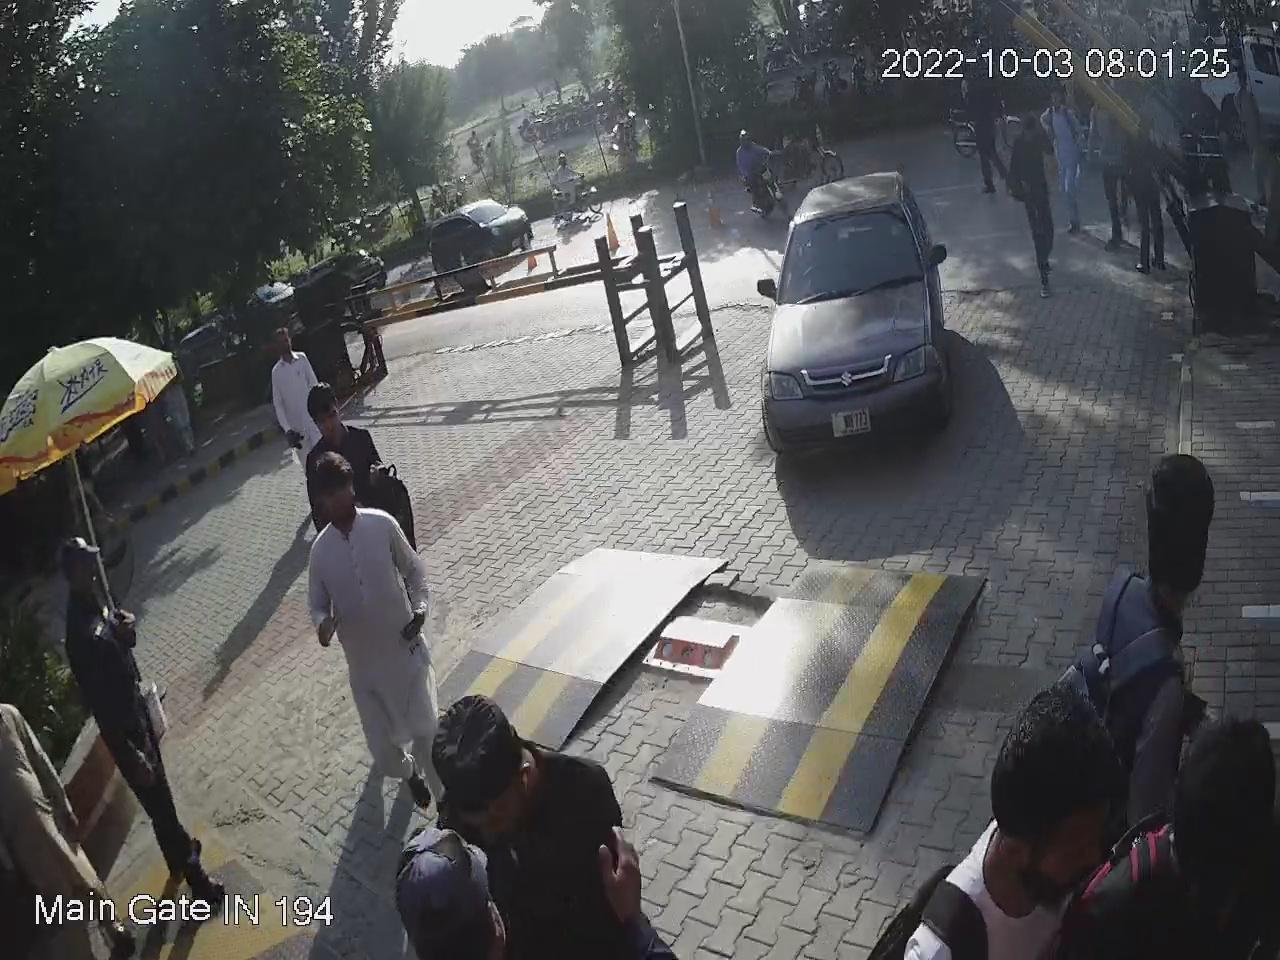windshield: (775, 200, 930, 315)
